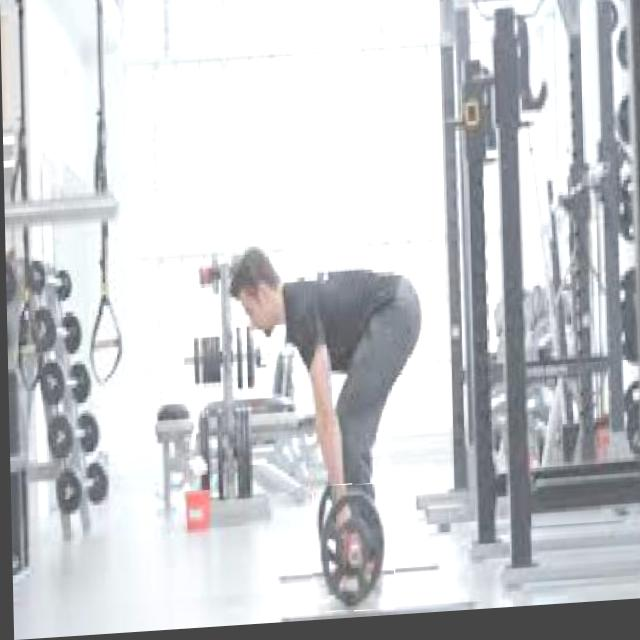barbell: (309, 487, 395, 619)
